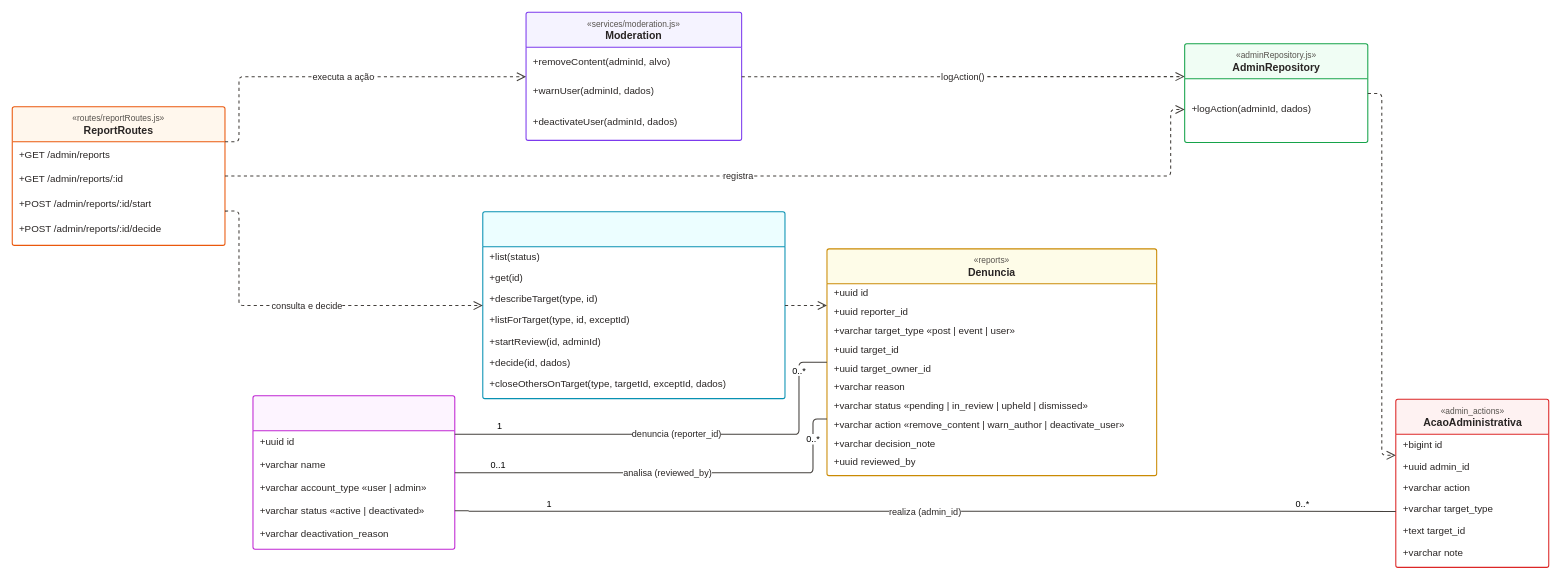
Some shapes in this 1562 by 580 pixel diagram are drawn without their labels. Each missing label, with the box of its shape:
«reportsRepository.js» ReportsRepository: (482, 211, 785, 399)
«users» Usuario: (252, 395, 455, 549)
